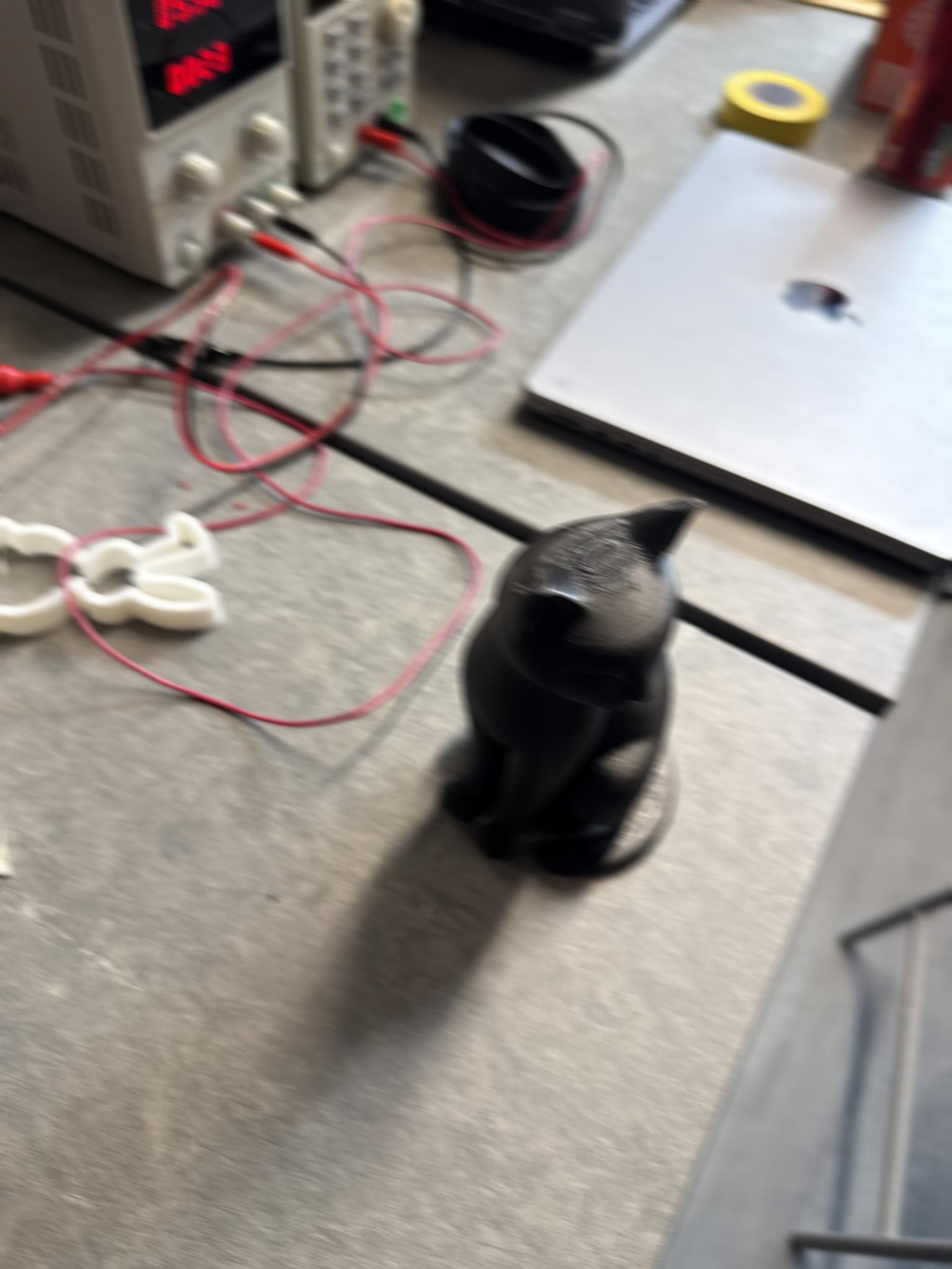cat: (437, 483, 707, 893)
